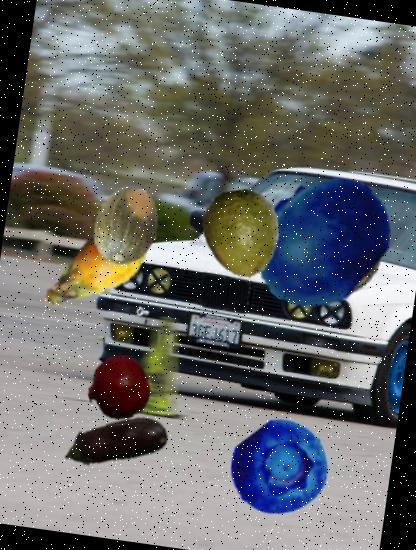Cactus: (28, 204, 160, 336)
Eggplant: (54, 382, 178, 505)
Guava: (191, 184, 293, 286)
Huckleberry: (240, 160, 402, 322), (224, 412, 336, 524)
Melon: (270, 176, 398, 304), (85, 182, 176, 274)
Pomegranate: (83, 352, 154, 424)
